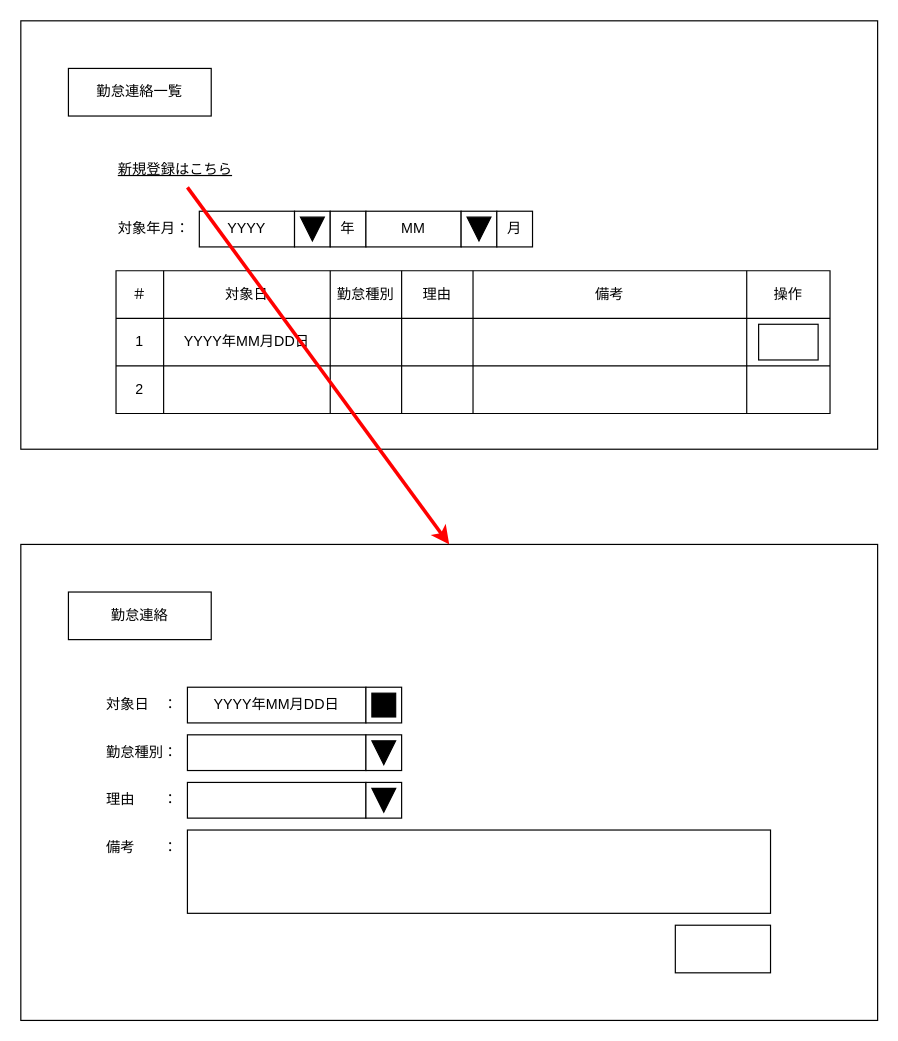
This 898x1041 diagram has some shape labels left out. The box of each missing label's shape, as (x1, y1, x2, y2) in pixels:
取消: (757, 323, 818, 360)
登録: (674, 924, 771, 973)
